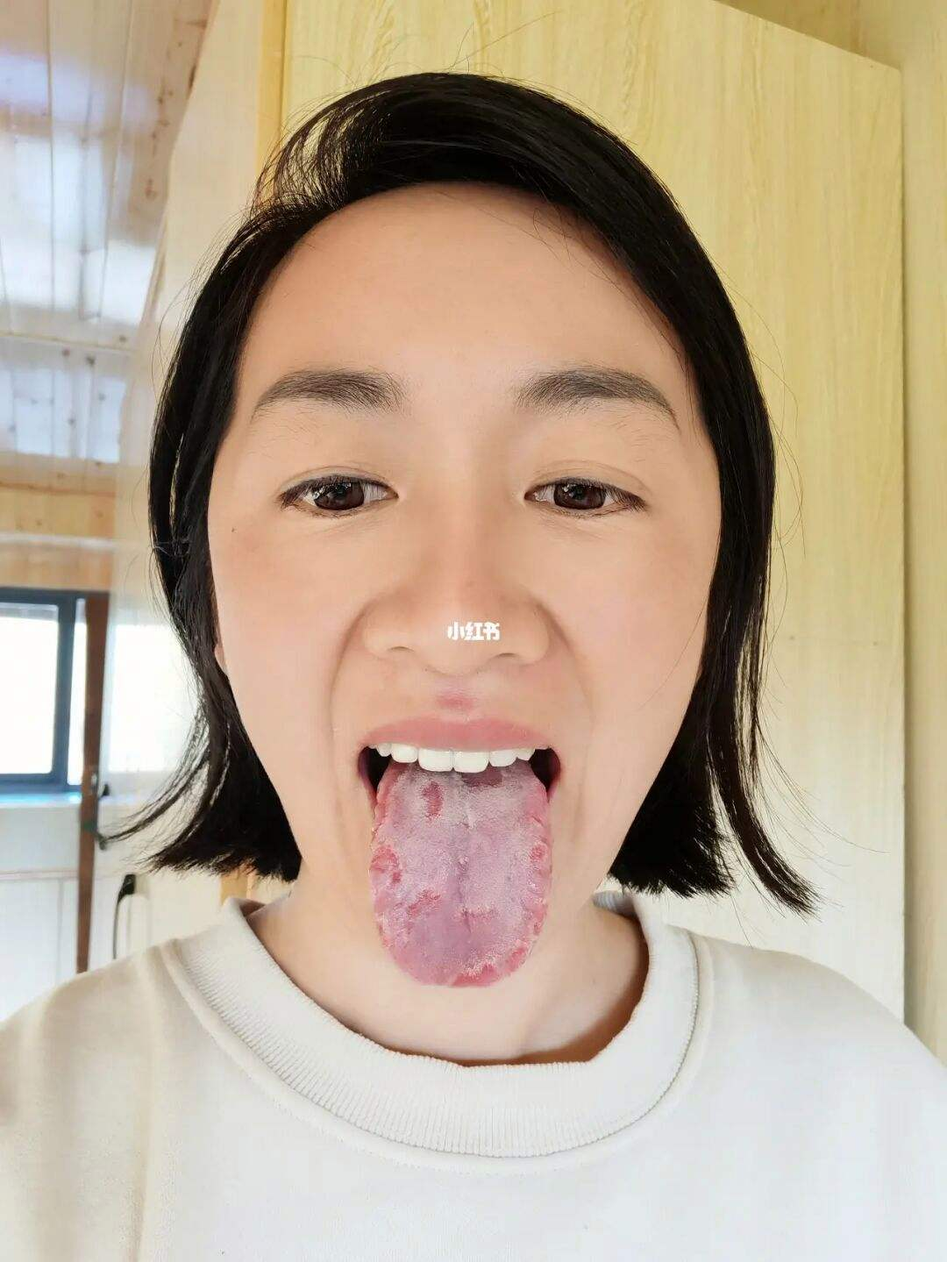botaishe: (371, 759, 553, 987), (446, 945, 529, 989), (417, 779, 448, 824)
liewenshe: (461, 909, 500, 933)
zishe: (371, 759, 553, 987)
